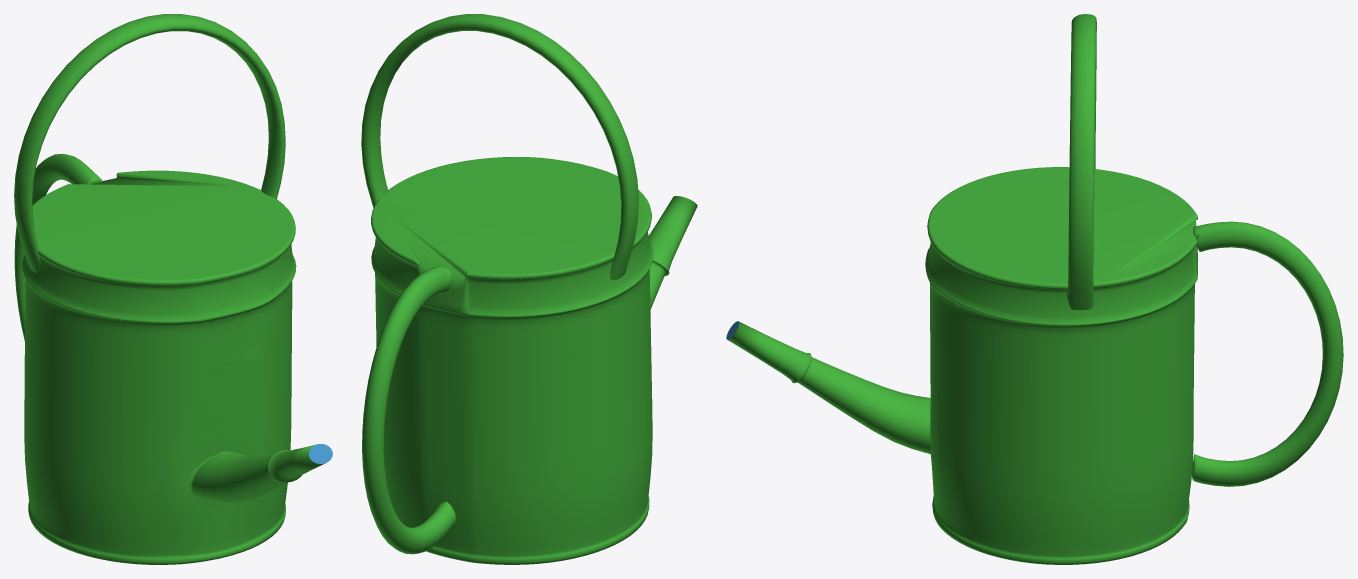
The model's file is Annaffiatoio_Fixed.fbx.
3 views of the same model, side by side, from view 1: azimuth 30°, elevation 25°; view 2: azimuth 150°, elevation 25°; view 3: azimuth 270°, elevation 25° (orthographic). The views are drawn at different scales.
Parts seen in each view (by area): view 1: part 2; view 2: part 2; view 3: part 2.
Boxes of the visible parts, bbox=[...] form: part 2: bbox=[14, 14, 332, 564]; part 2: bbox=[361, 14, 697, 564]; part 2: bbox=[726, 14, 1343, 564].
Size of the model in its own units: 14.79 by 25.98 by 29.83.
